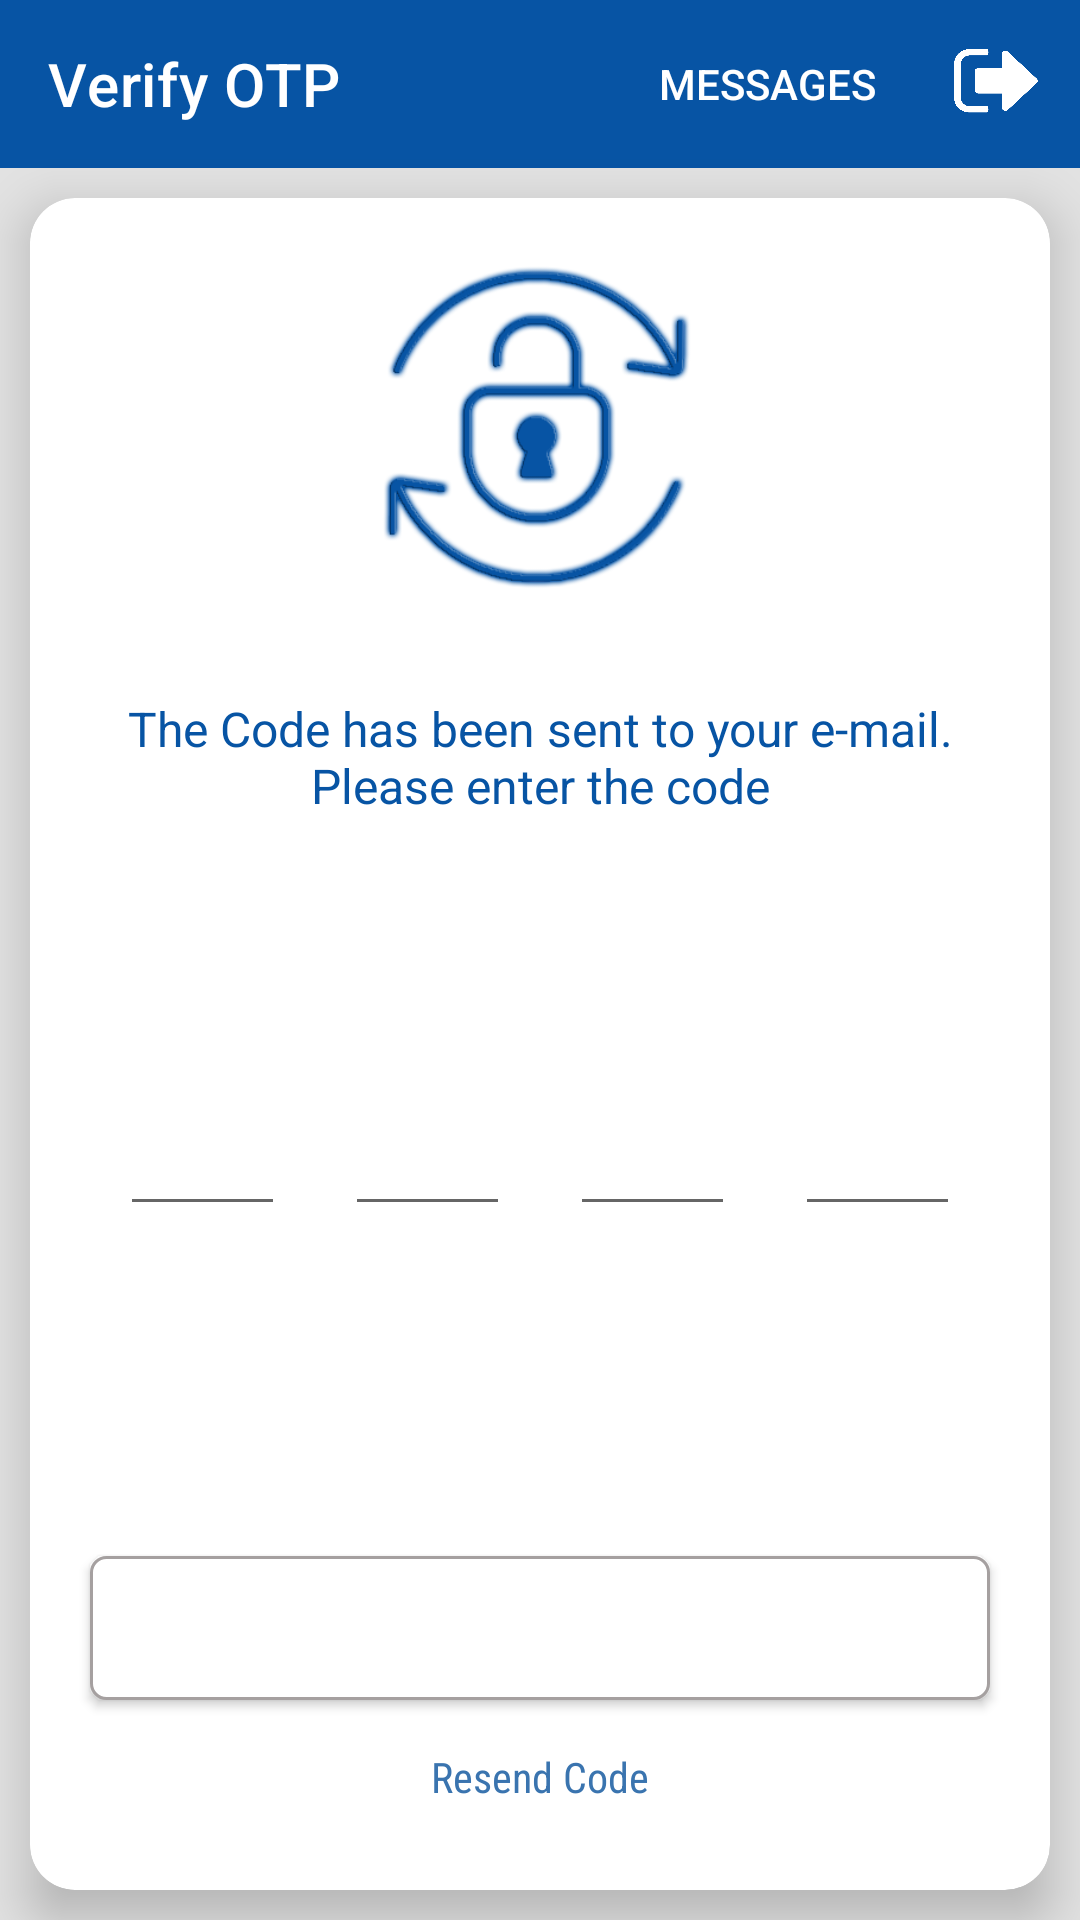

Icons on this 1080 × 1920 Android screen, each with the point to tap as (x,y):
otpbackgrd: (537,427)
